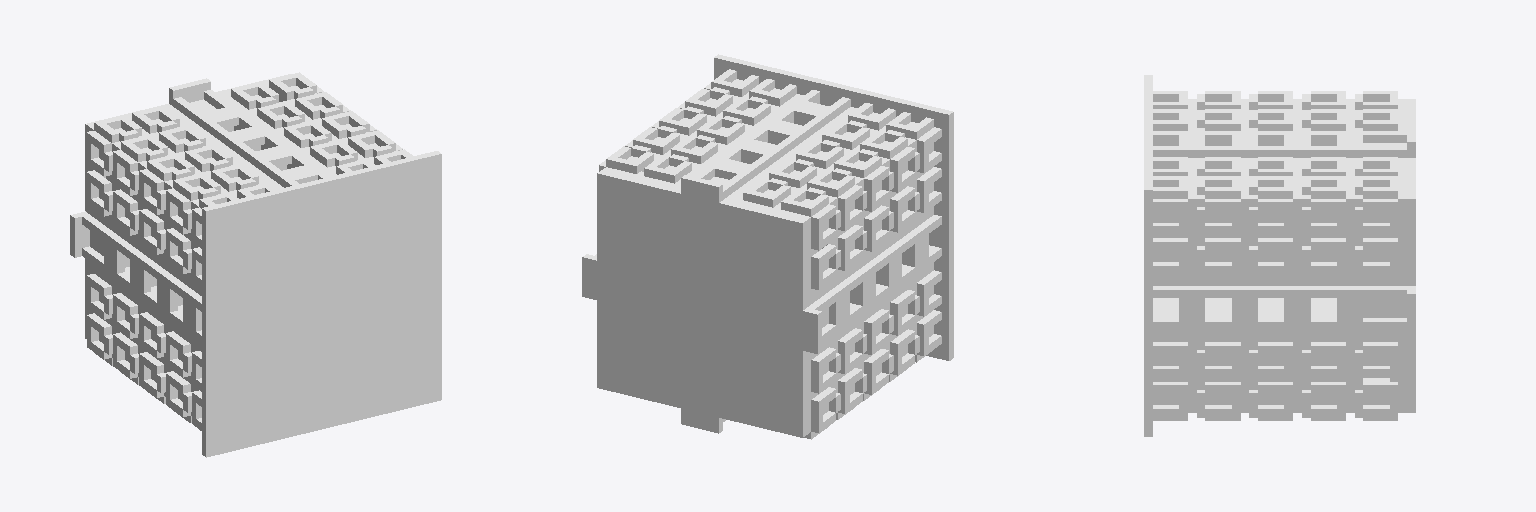
Rendered from Brick_1.obj.
3 renders of one model, left to right at view 1: azimuth 30°, elevation 25°; view 2: azimuth 150°, elevation 25°; view 3: azimuth 270°, elevation 25°, orthographic.
Parts seen in each view (by area): view 1: Brick_1; view 2: Brick_1; view 3: Brick_1.
Boxes of the visible parts, x1=… form: Brick_1: x1=70, y1=72, x2=441, y2=457; Brick_1: x1=582, y1=54, x2=953, y2=439; Brick_1: x1=1144, y1=75, x2=1415, y2=436.
Size of the model in its own units: 31 by 31 by 31.